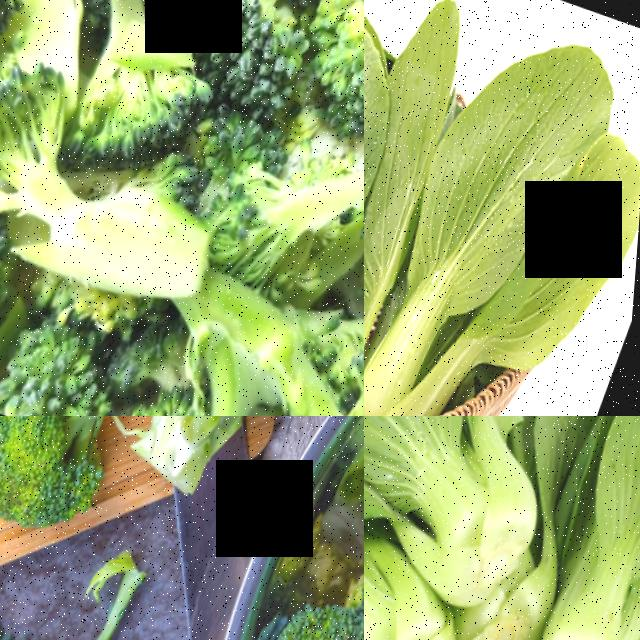bok choy: (364, 14, 591, 416), (364, 416, 608, 545), (516, 416, 640, 640), (364, 465, 479, 640)
broccoli: (163, 250, 364, 416), (75, 15, 229, 198), (0, 0, 165, 126), (0, 416, 156, 544), (279, 0, 364, 163), (234, 589, 364, 640)
